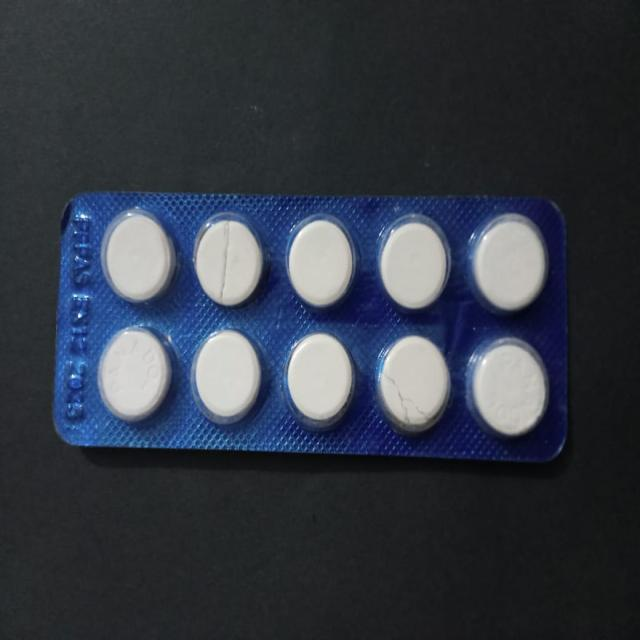defect: (373, 329, 458, 440), (188, 209, 268, 314)
